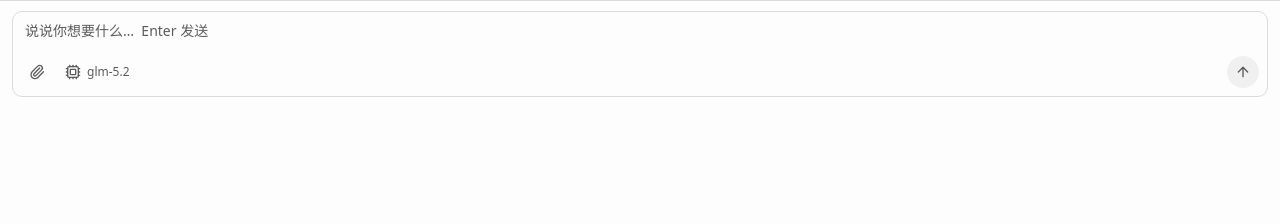
Test: model command › hides effort when the current provider model has no configured levels
In the text box with test id "composer": (640, 34) [13, 12, 1267, 56], type "你好"
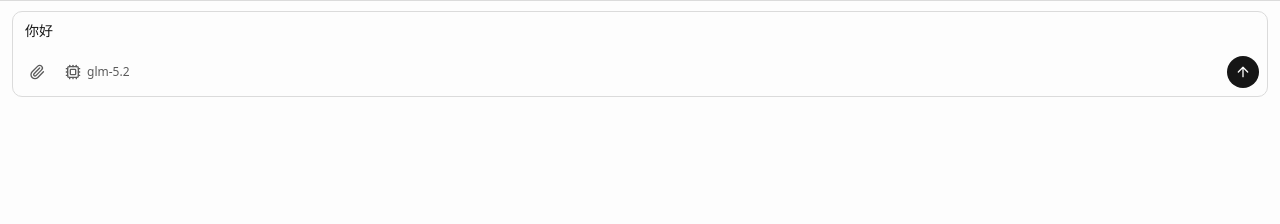
Press the mouse on the button with test id "model-control": (97, 72) [57, 56, 138, 88]
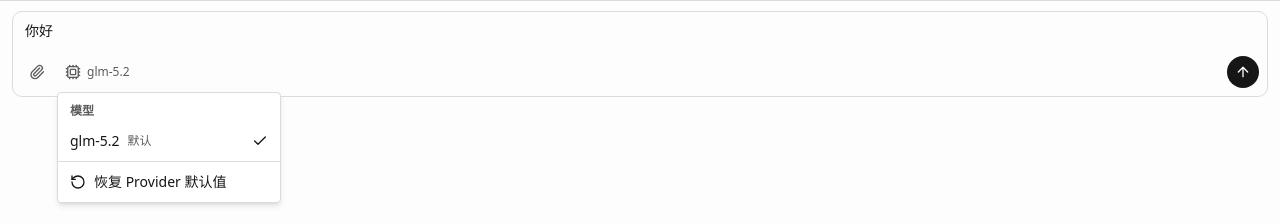
Check: the menu item "恢复 Provider 默认值" is shown, box [70, 172, 226, 191]
